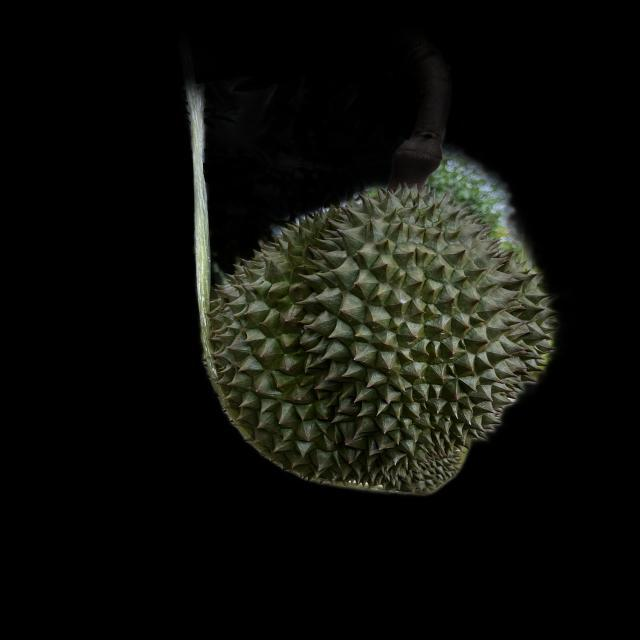immature: (207, 184, 552, 492)
